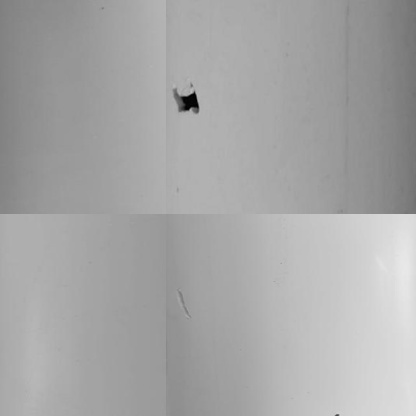kongdong: (173, 83, 204, 116)
sunshang: (170, 284, 192, 316)
